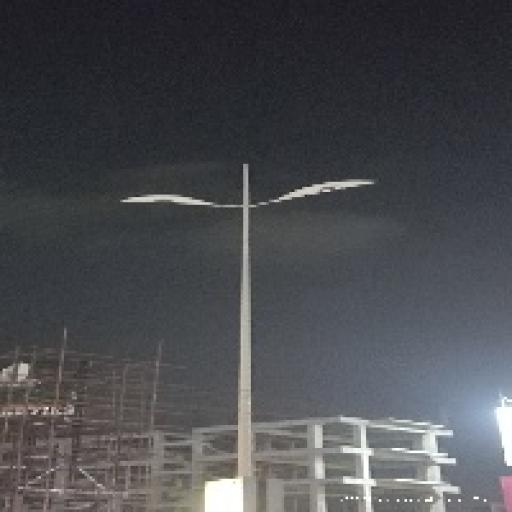Not Working: (263, 170, 377, 208), (114, 182, 213, 218)
